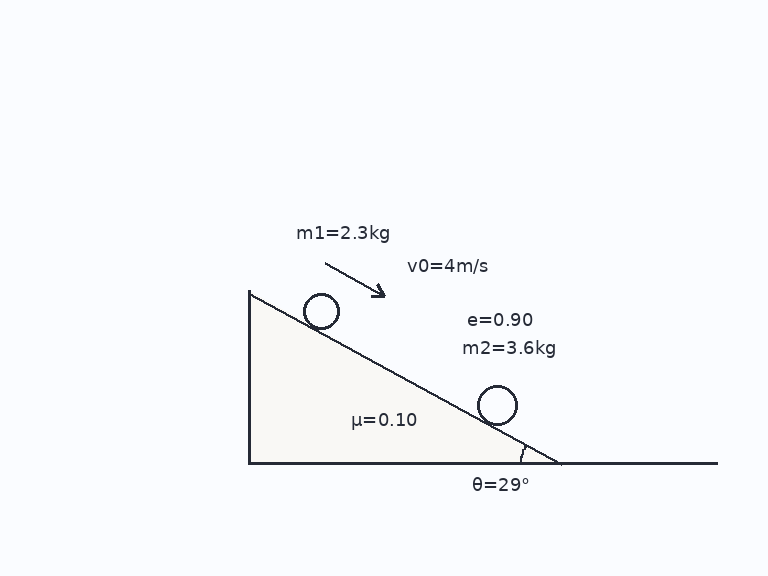ball: (475, 383, 519, 427), (301, 291, 341, 331)
ramp: (247, 289, 563, 466)
